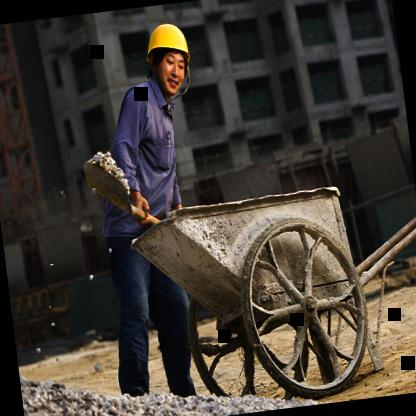helmet: (136, 13, 202, 98)
